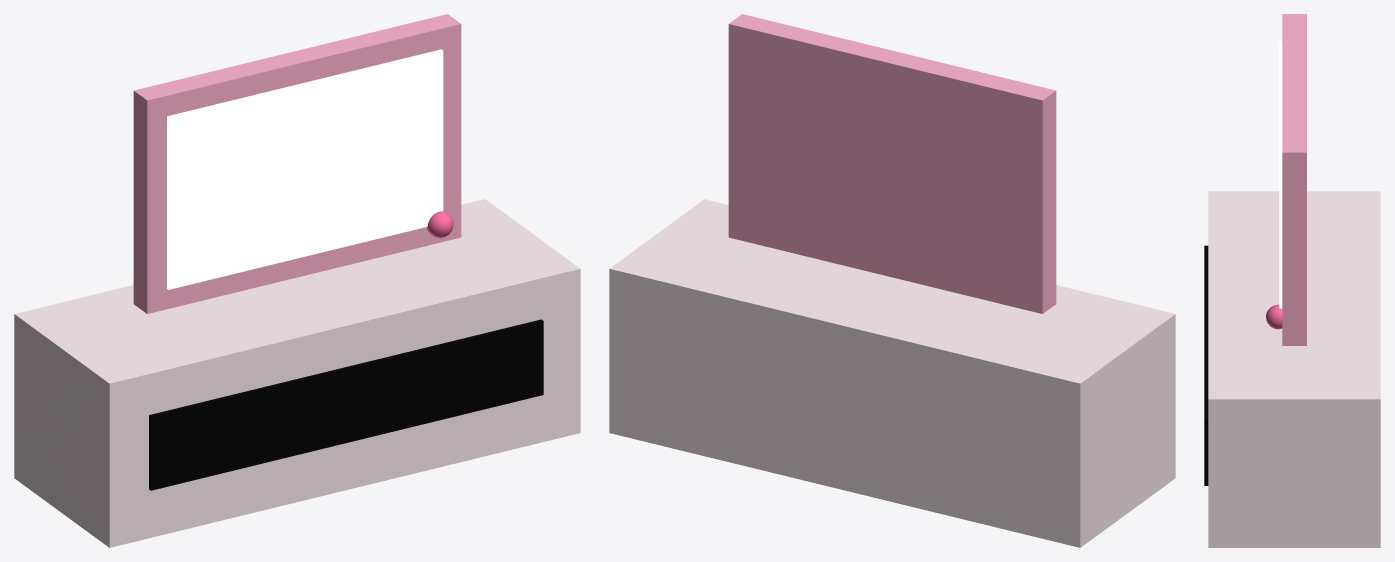
File: tv_cute_0.glb
The picture shows the model from 3 angles, left to right: view 1: azimuth 30°, elevation 25°; view 2: azimuth 150°, elevation 25°; view 3: azimuth 270°, elevation 25°; orthographic projection. The views are drawn at different scales.
Size of the model in its own units: 1.2 by 0.97 by 0.43.
